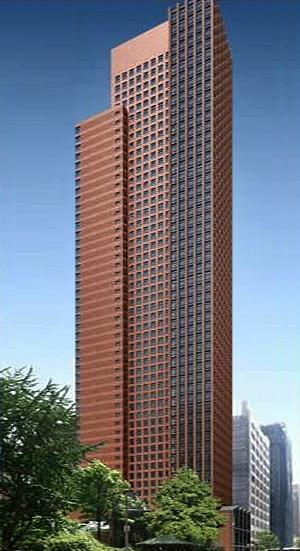Sky Building: (66, 2, 237, 515)
